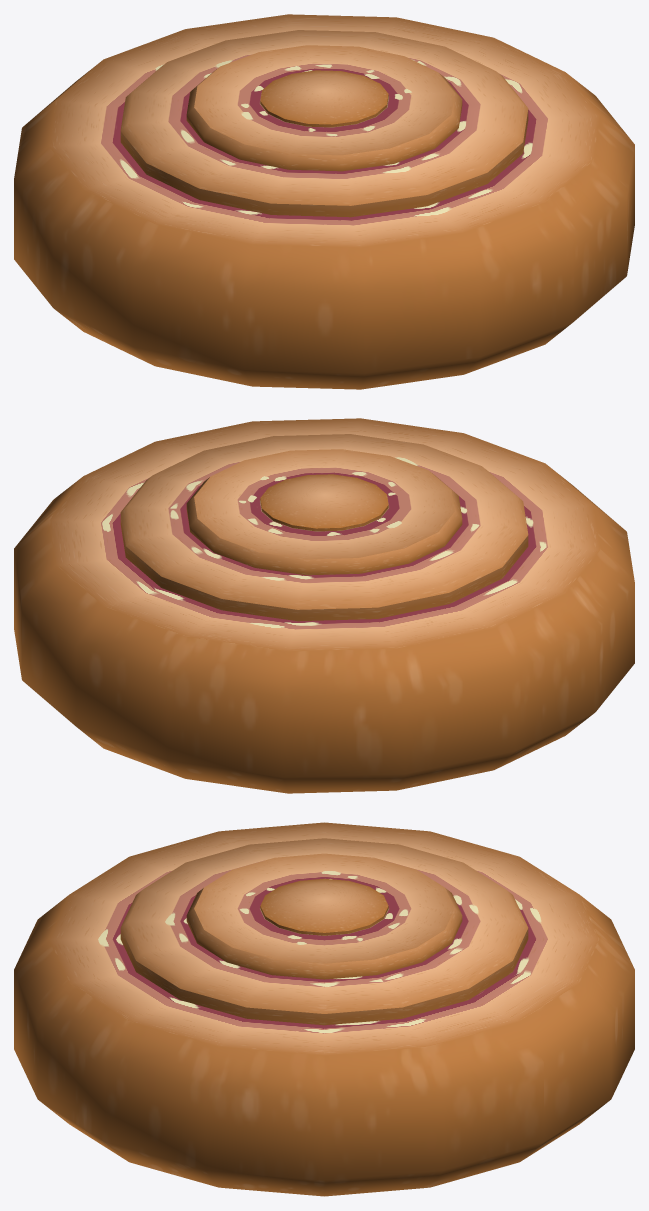
Rendered from cinnamon_roll.fbx.
The picture shows the model from 3 angles, top to bottom: view 1: azimuth 30°, elevation 25°; view 2: azimuth 150°, elevation 25°; view 3: azimuth 270°, elevation 25°; orthographic projection.
Parts seen in each view (by area): view 1: cinnamon_roll; view 2: cinnamon_roll; view 3: cinnamon_roll.
Boxes of the visible parts, <box> form: cinnamon_roll: <box>14,14,634,389</box>; cinnamon_roll: <box>14,418,634,793</box>; cinnamon_roll: <box>14,822,634,1196</box>.
Size of the model in its own units: 60 by 19.25 by 60.
